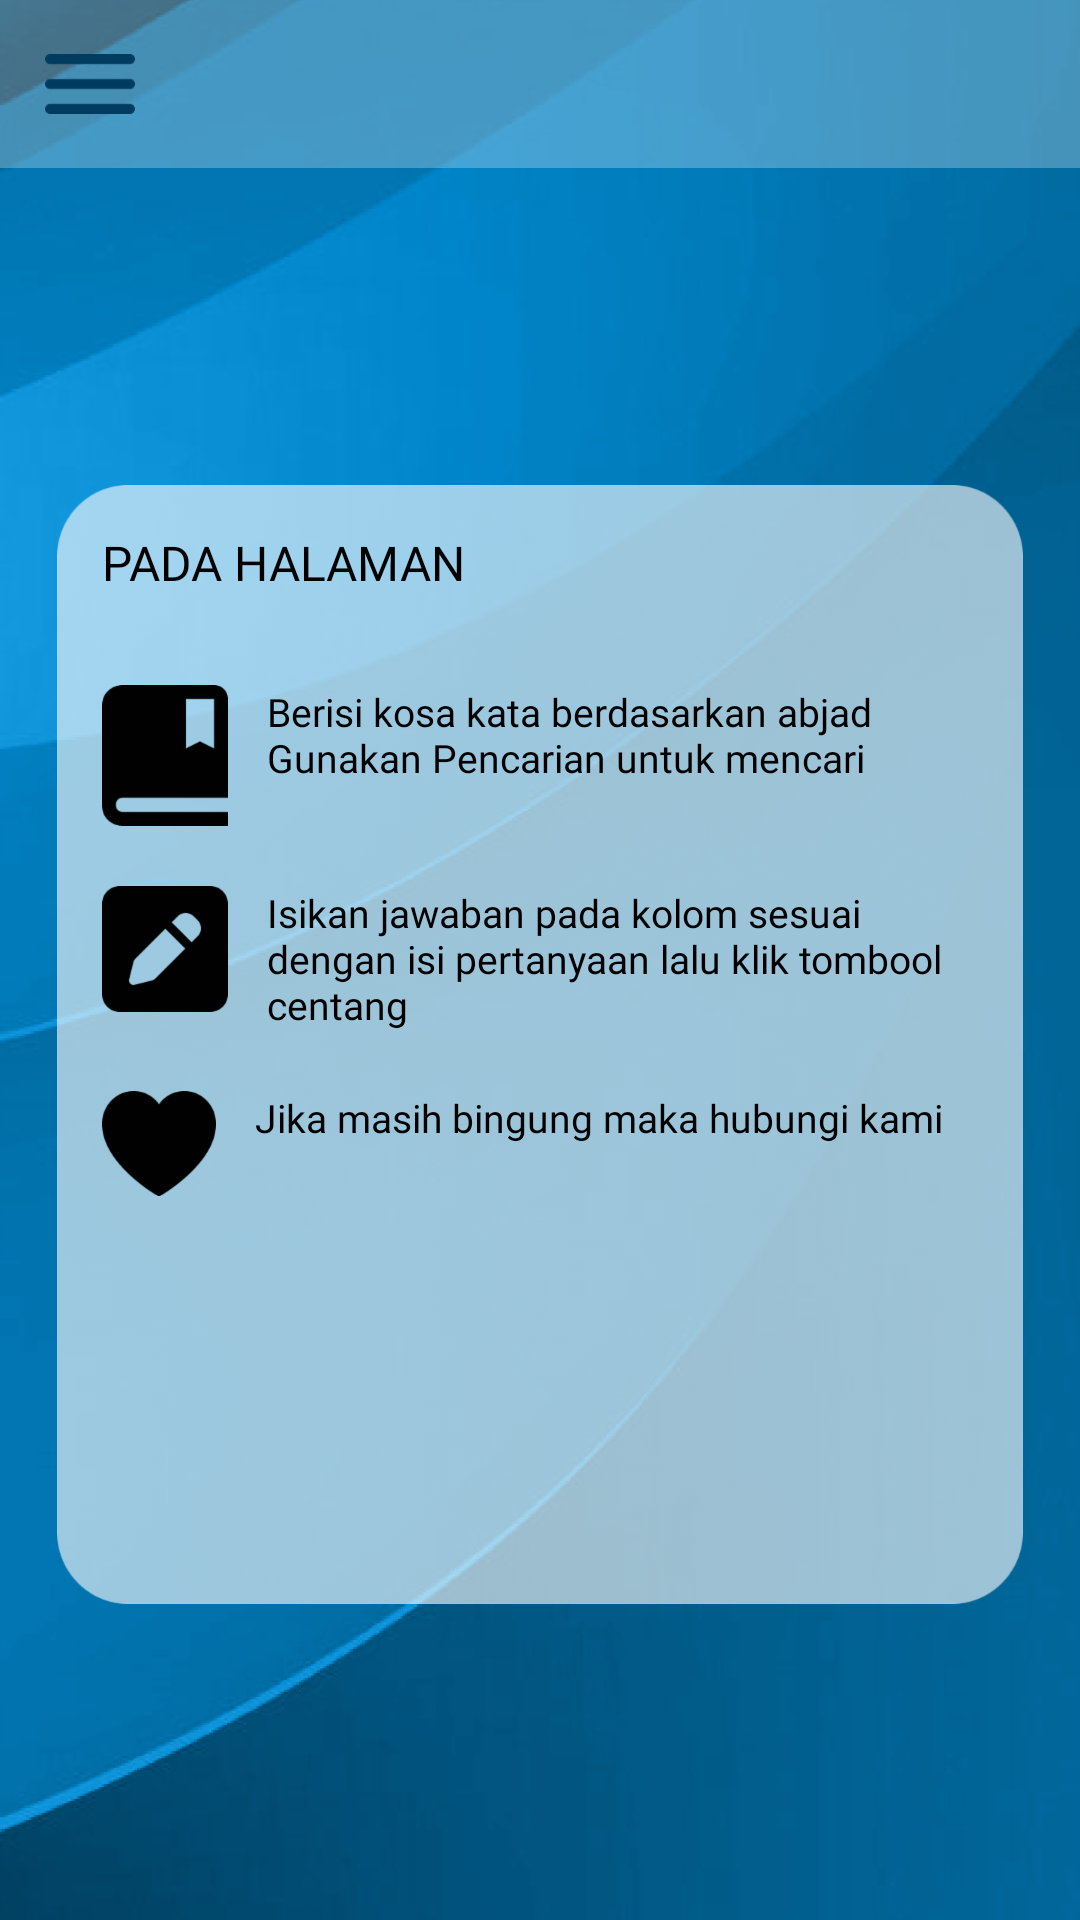

Where icons sit on this 1080×1920 app screen, as {"left": x1, "top": y1, "right": x2, "bottom": y2}:
btnmenu: {"left": 45, "top": 54, "right": 135, "bottom": 114}
imgbookmark: {"left": 102, "top": 685, "right": 228, "bottom": 826}
imglove: {"left": 102, "top": 1091, "right": 216, "bottom": 1196}
imgpen: {"left": 102, "top": 886, "right": 228, "bottom": 1012}
